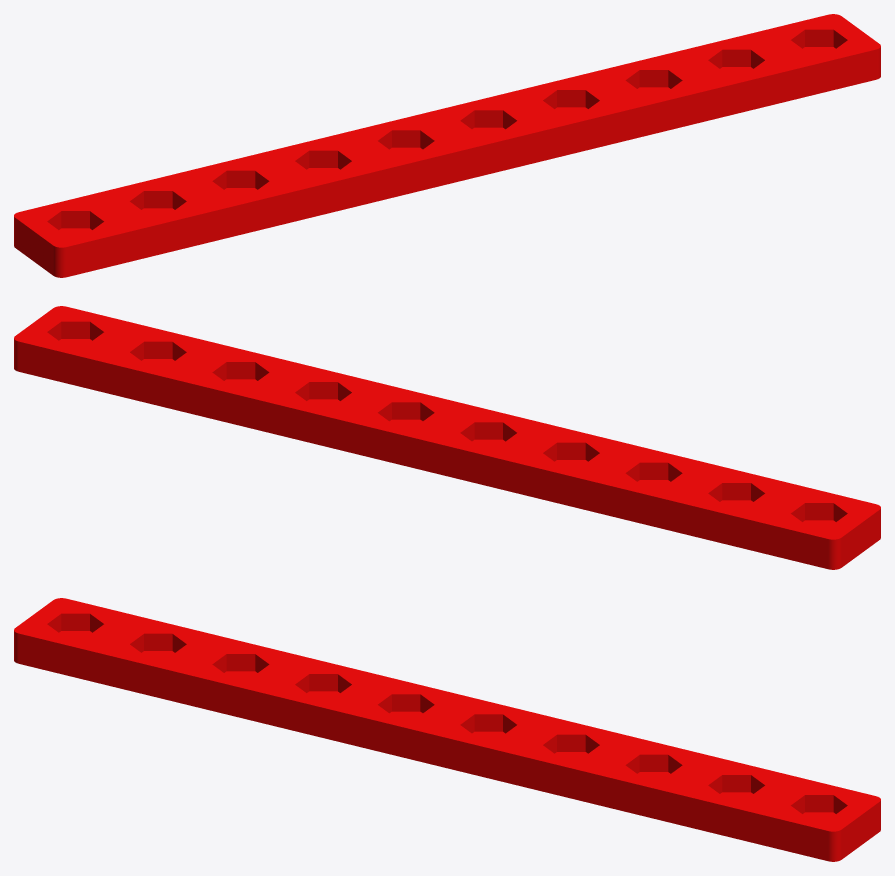
The model's file is S10_red.glb.
3 views of the same model, one above another, from view 1: azimuth 30°, elevation 25°; view 2: azimuth 150°, elevation 25°; view 3: azimuth 330°, elevation 25° (orthographic).
Parts seen in each view (by area): view 1: S10_blue; view 2: S10_blue; view 3: S10_blue.
Part boxes in pixels (left/top/right/bottom): S10_blue: left=14, top=14, right=880, bottom=277; S10_blue: left=14, top=306, right=880, bottom=569; S10_blue: left=14, top=598, right=880, bottom=861.
Size of the model in its own units: 0.1 by 0.0035 by 0.01.
